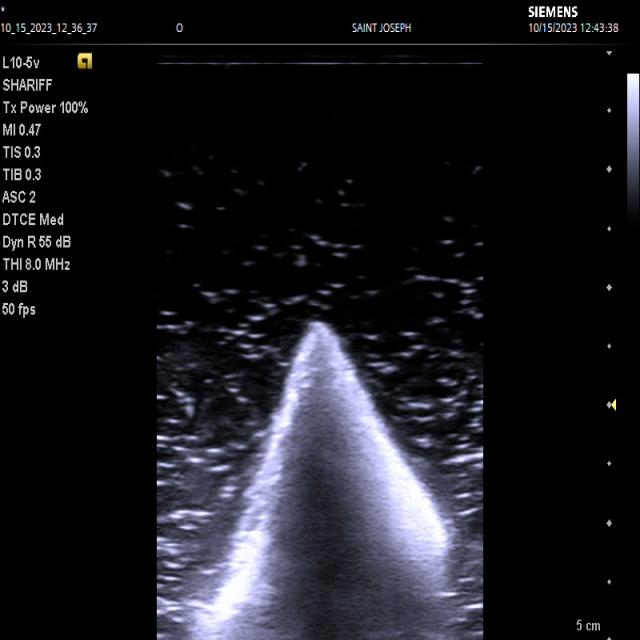tissue: (190, 321, 464, 640)
